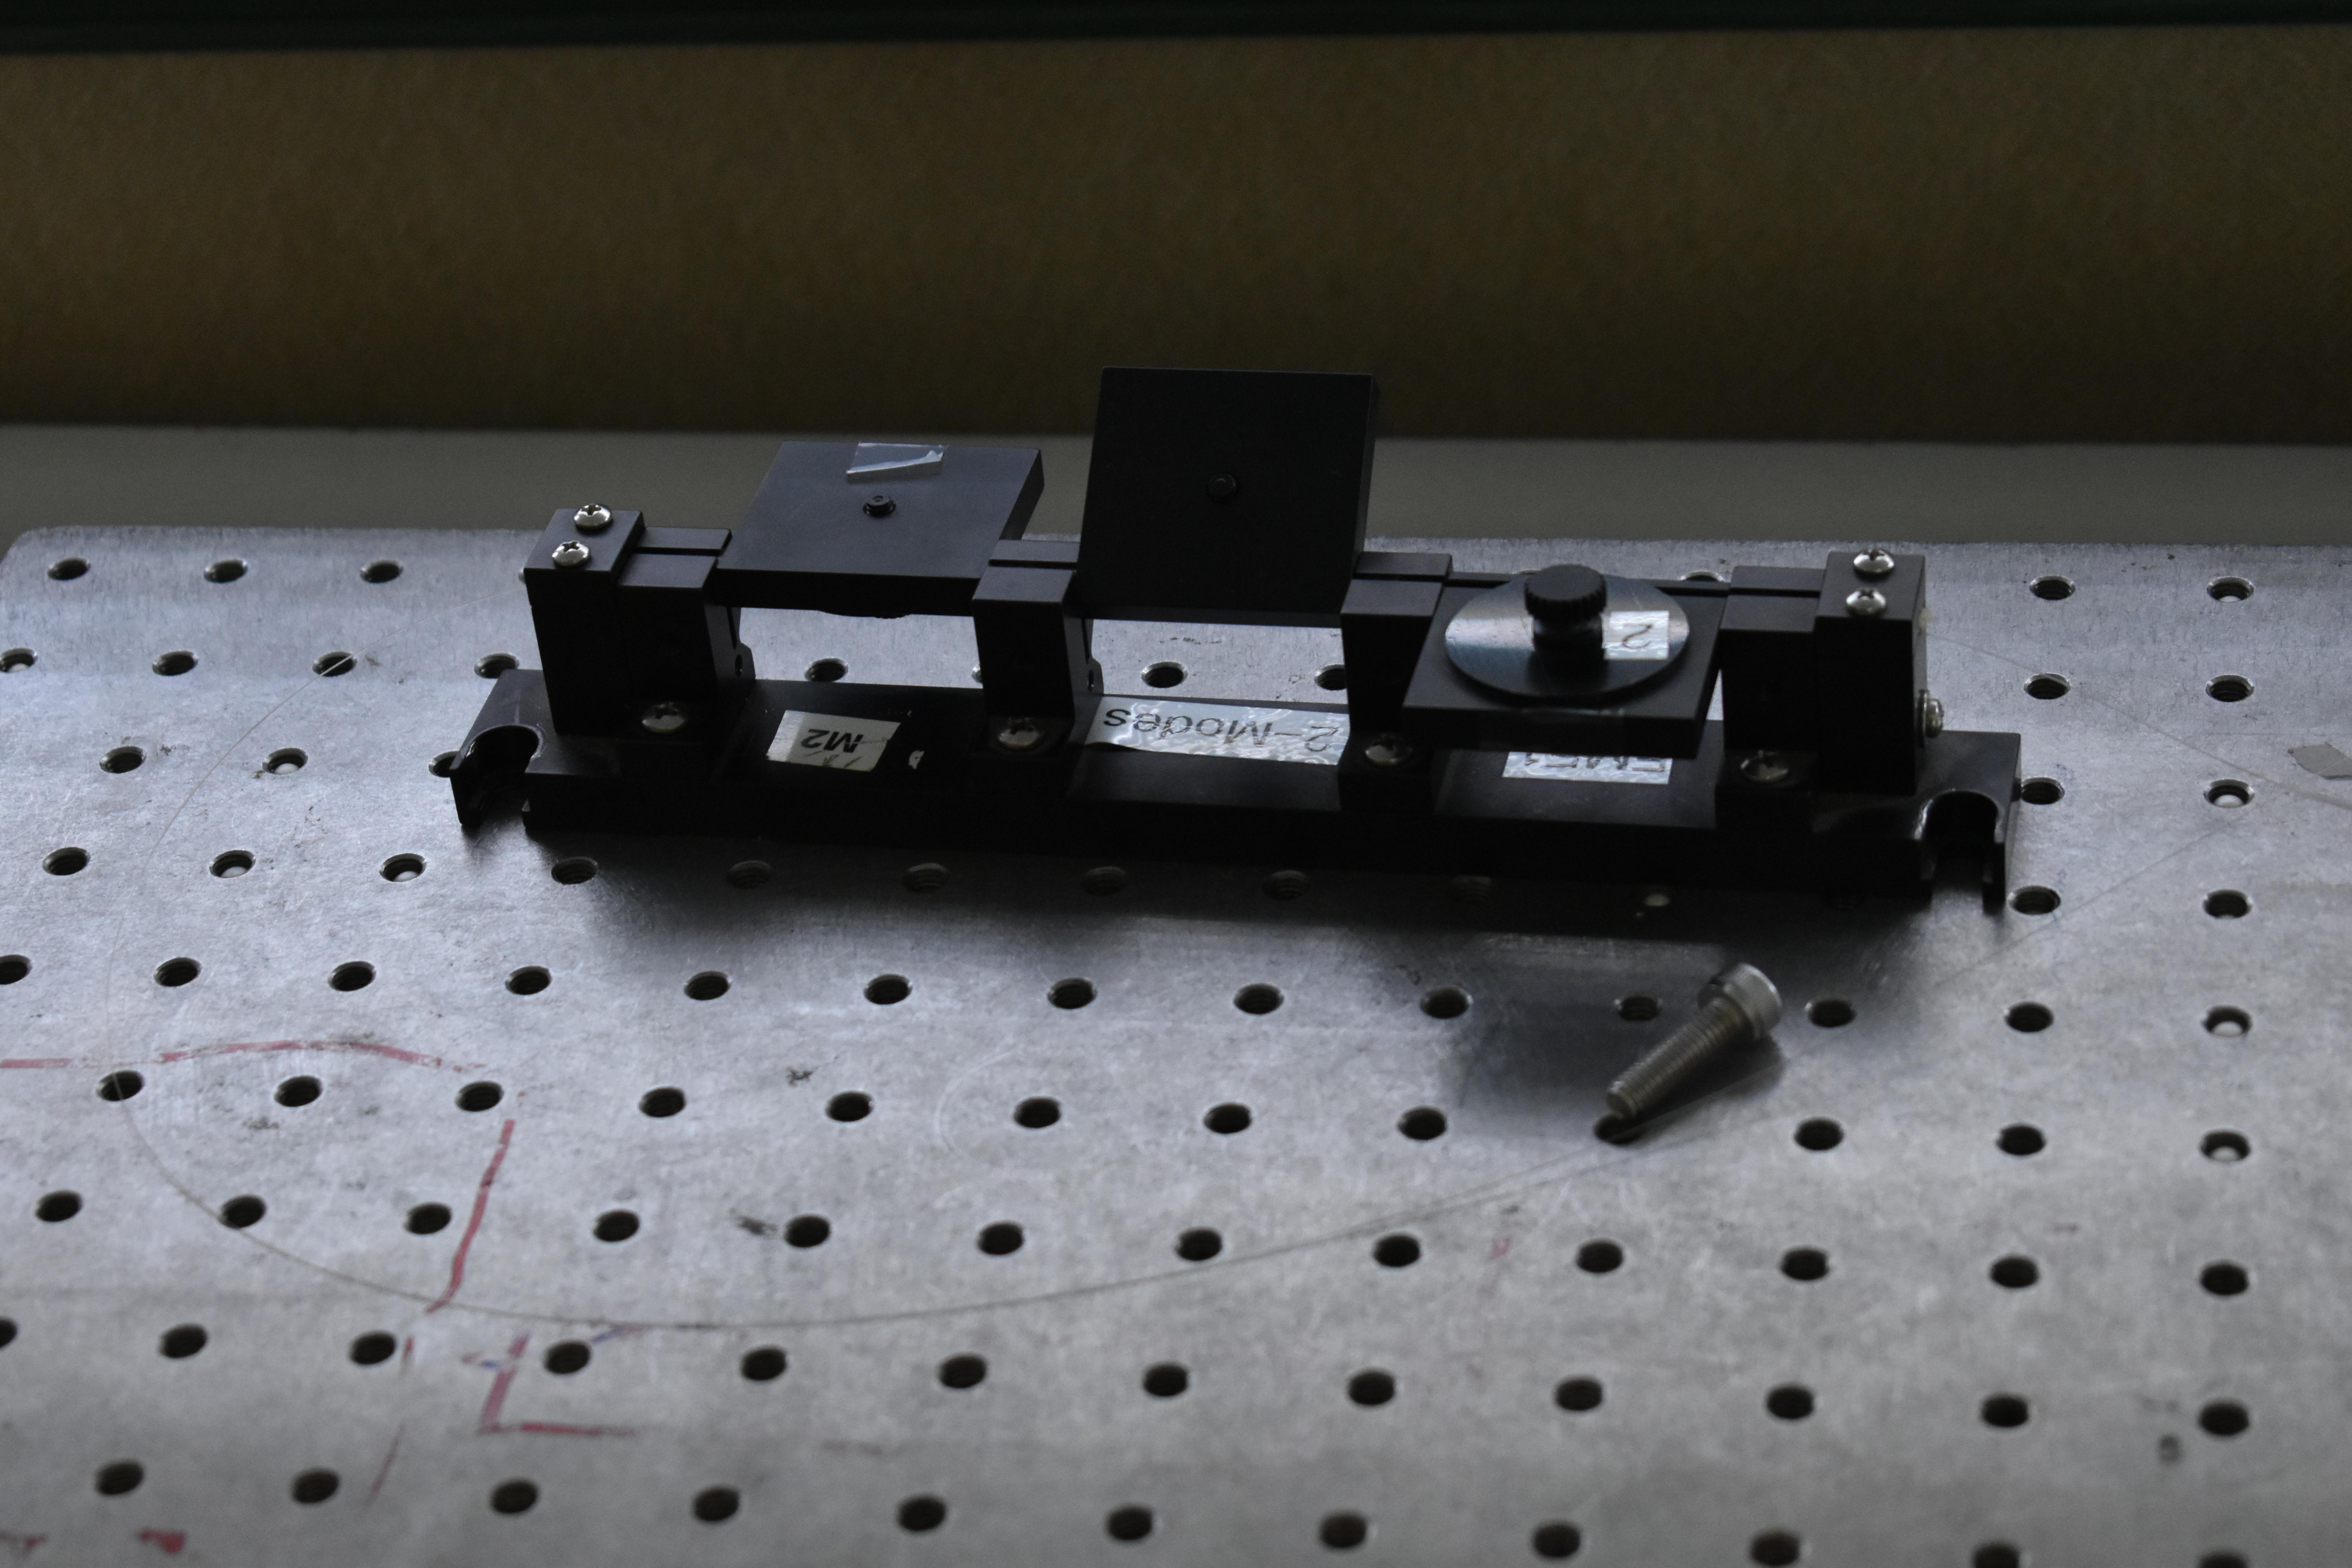paddle_polarization_controller: (418, 348, 2037, 936)
